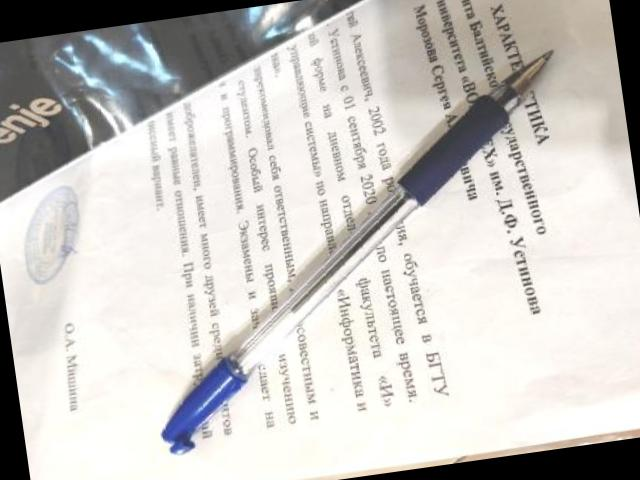PEN: (140, 17, 564, 468)
